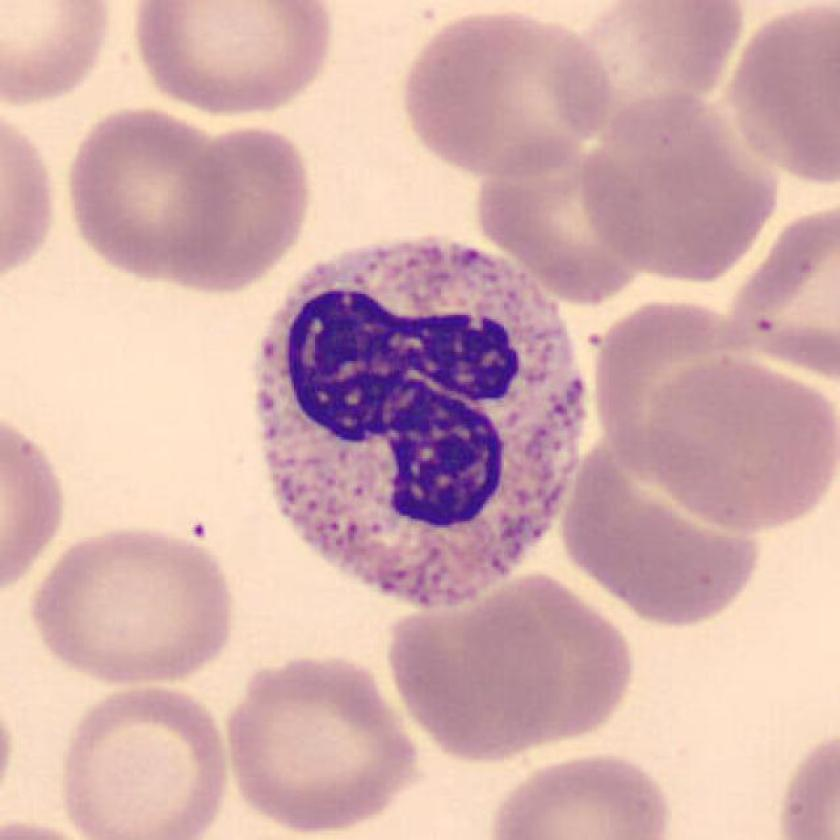neutrophil: (252, 236, 586, 603)
